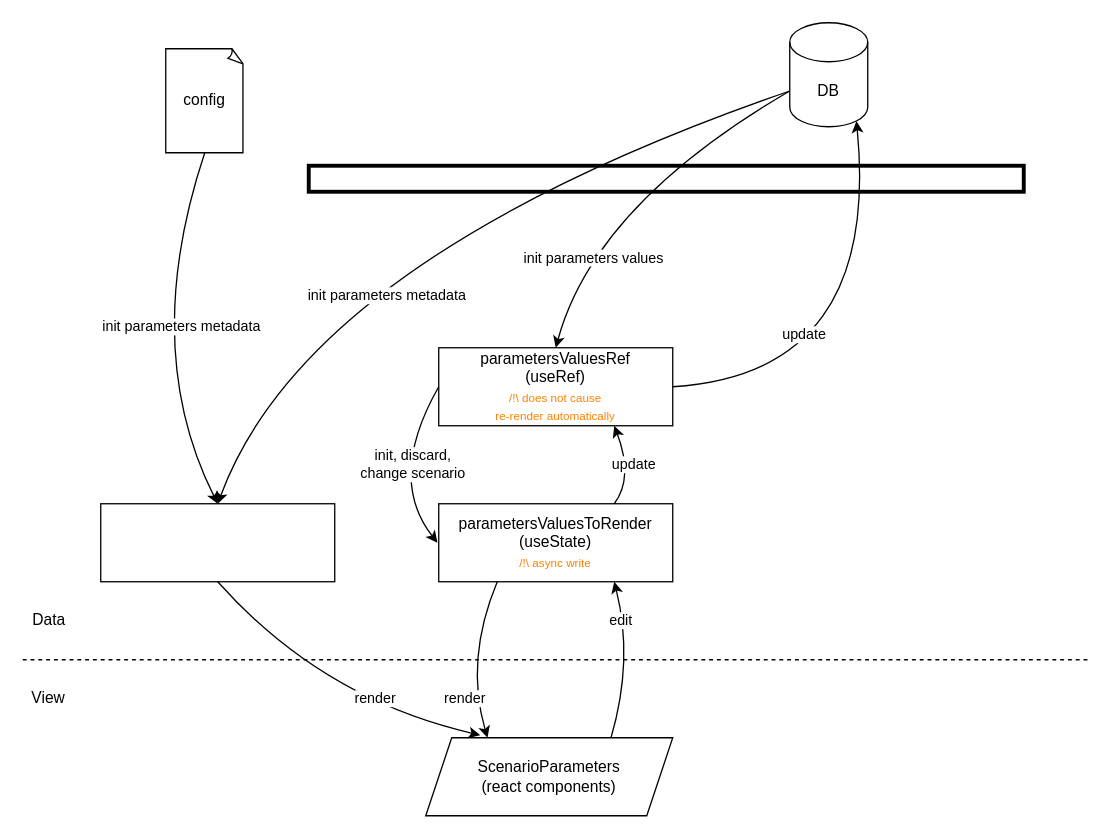
The diagram is 1113 pixels wide and 838 high, and some of its shapes have lost their labels. Here are the shapes that lost their labels. From the top down, the box of each, then its label:
(306, 163, 1025, 193): REST API
(99, 502, 335, 582): parametersMetadata (useMemo)
